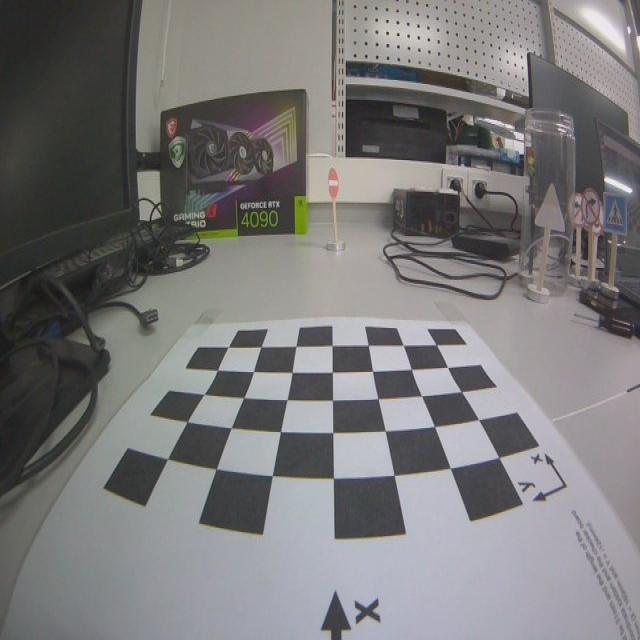Dilarang Belok Kanan: (328, 167, 339, 199)
